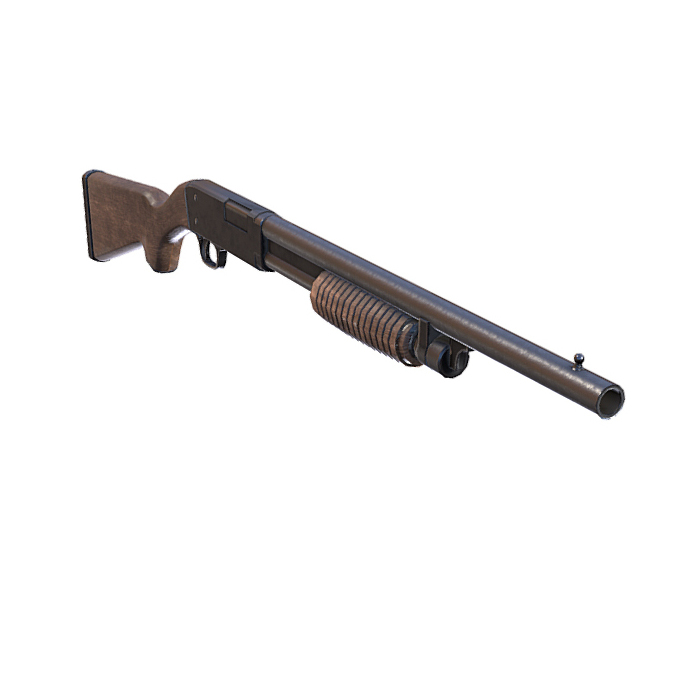weapon: (81, 166, 625, 433)
